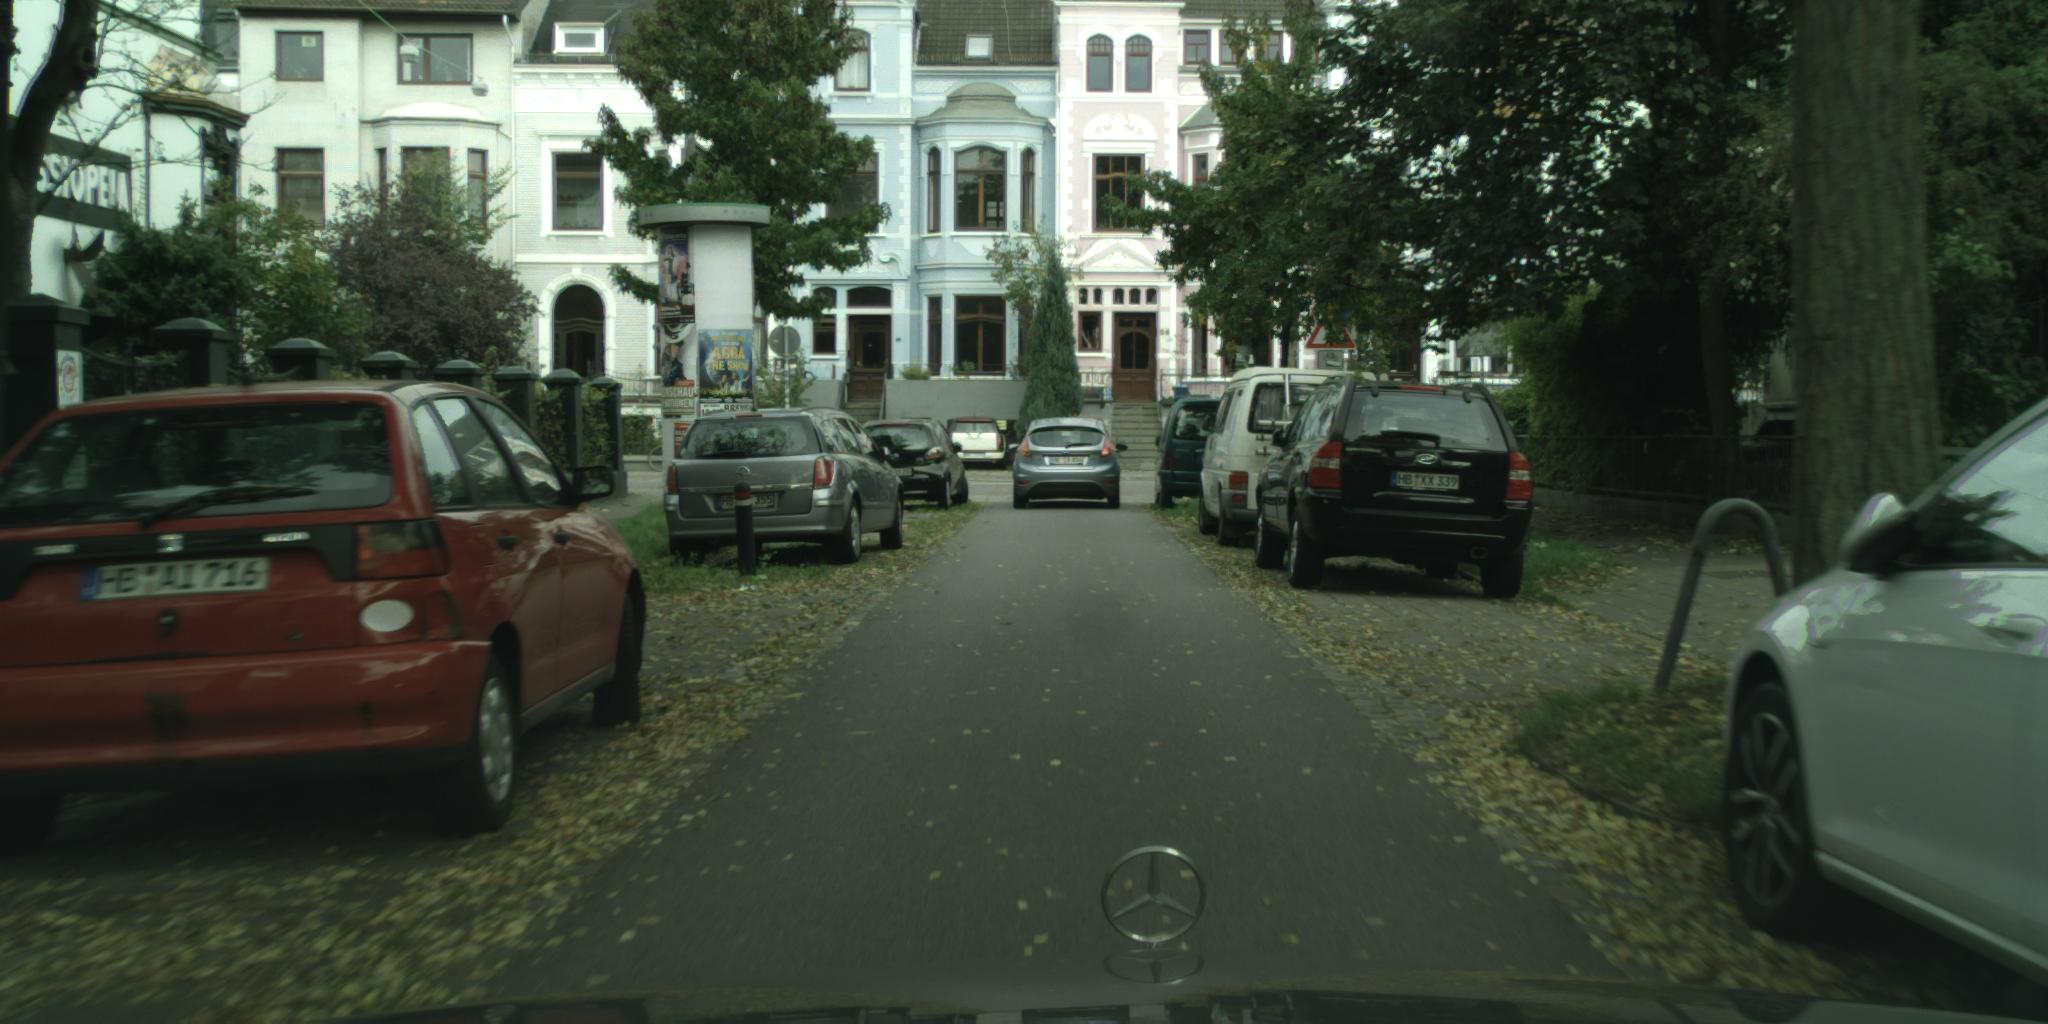bicycle: (650, 445, 667, 473)
car: (1, 380, 647, 844), (1723, 397, 2048, 990), (1255, 375, 1535, 601), (664, 406, 905, 567), (1199, 368, 1357, 549), (1010, 417, 1128, 509), (859, 418, 970, 509), (1155, 396, 1233, 513), (946, 417, 1010, 472)
